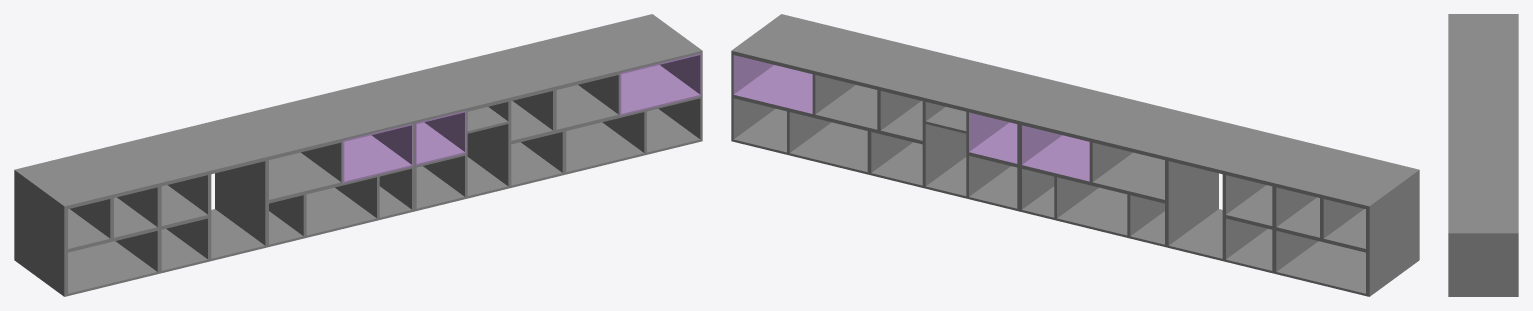
Rendered from Repizagigante.FBX.
3 renders of one model, left to right at view 1: azimuth 30°, elevation 25°; view 2: azimuth 150°, elevation 25°; view 3: azimuth 270°, elevation 25°, orthographic. The views are drawn at different scales.
Parts seen in each view (by area): view 1: Repizagigante; view 2: Repizagigante; view 3: Repizagigante.
Boxes of the visible parts, x1,y1,x2,y2 form: Repizagigante: [14, 14, 702, 296]; Repizagigante: [731, 14, 1419, 296]; Repizagigante: [1448, 14, 1518, 296].
Bounding box in the file's own units: 369 × 50 × 50.22.
